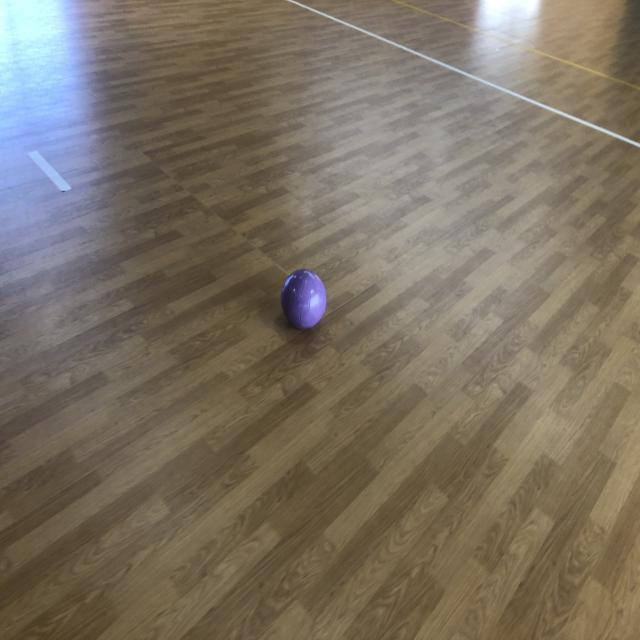purple_ball: (282, 268, 328, 331)
